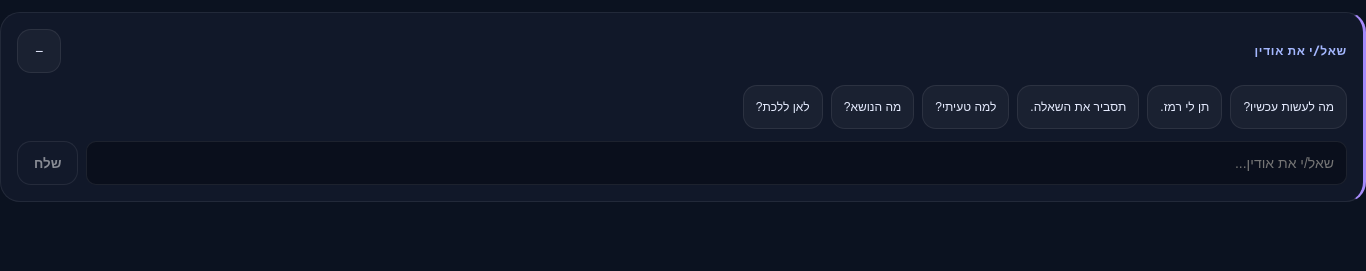
AskOdinPanel (general educational assistant pass) › free-text input › gives the safe fallback for a question with no answer in the authored content, and does not invent one
In the field with test id "ask-odin-free-text-input": (717,163) [86,141,1347,185], type "מה השעה עכשיו?"
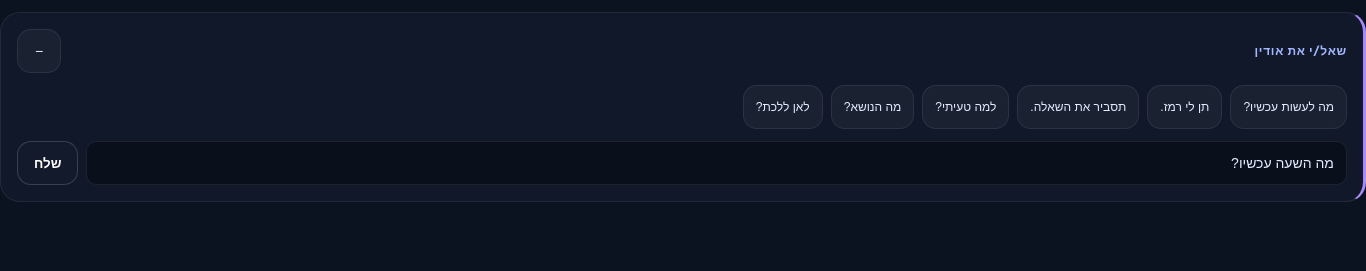
Click the button with test id "ask-odin-free-text-submit": (48,163) [17,141,78,185]
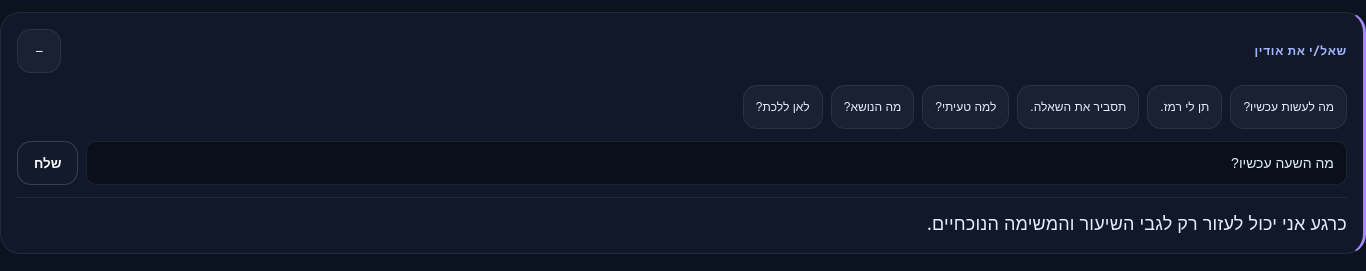
Now the text with test id "ask-odin-answer" reads "כרגע אני יכול לעזור רק לגבי השיעור והמשימה הנוכחיים.", box [927,211,1347,235]
